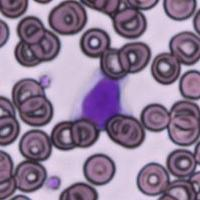L: (69, 68, 132, 131)
